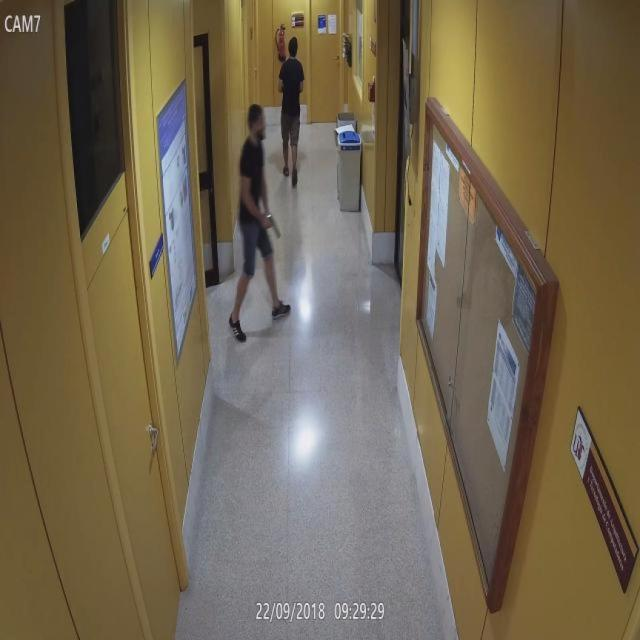pistol: (261, 213, 282, 239)
